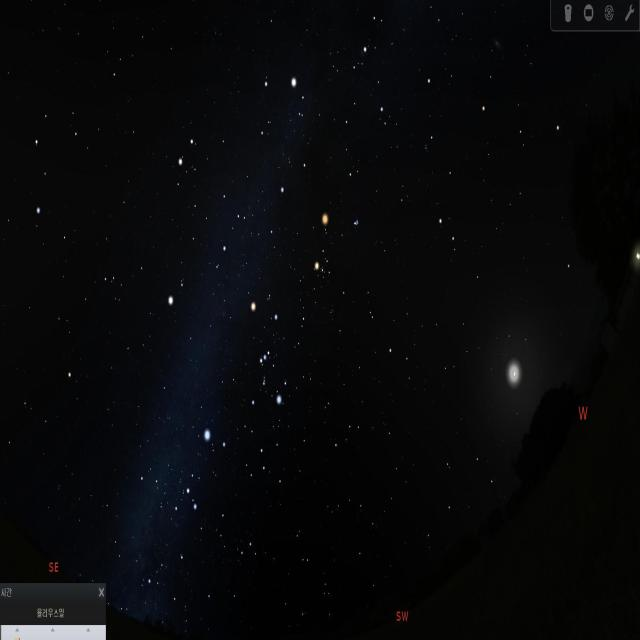canis_major: (182, 418, 232, 518)
canis_minor: (165, 274, 191, 318)
gemini: (177, 129, 254, 273)
moon: (494, 352, 530, 409)
orion: (242, 287, 287, 420)
pleiades: (347, 211, 368, 237)
taurus: (306, 202, 381, 302)
